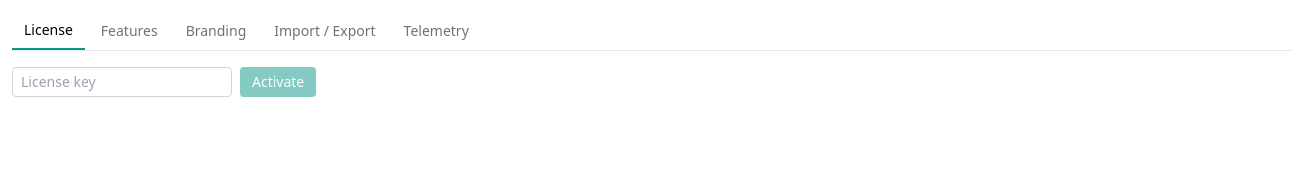
Test: CommercialPage › locks branding behind an agency license
Click the button "Branding" at (216, 31), box [174,12,258,50]
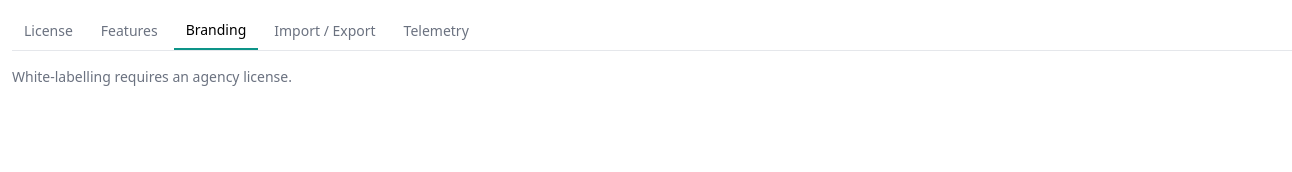
Check: the text "White-labelling requires an agency license." is shown, box [12,67,292,86]
